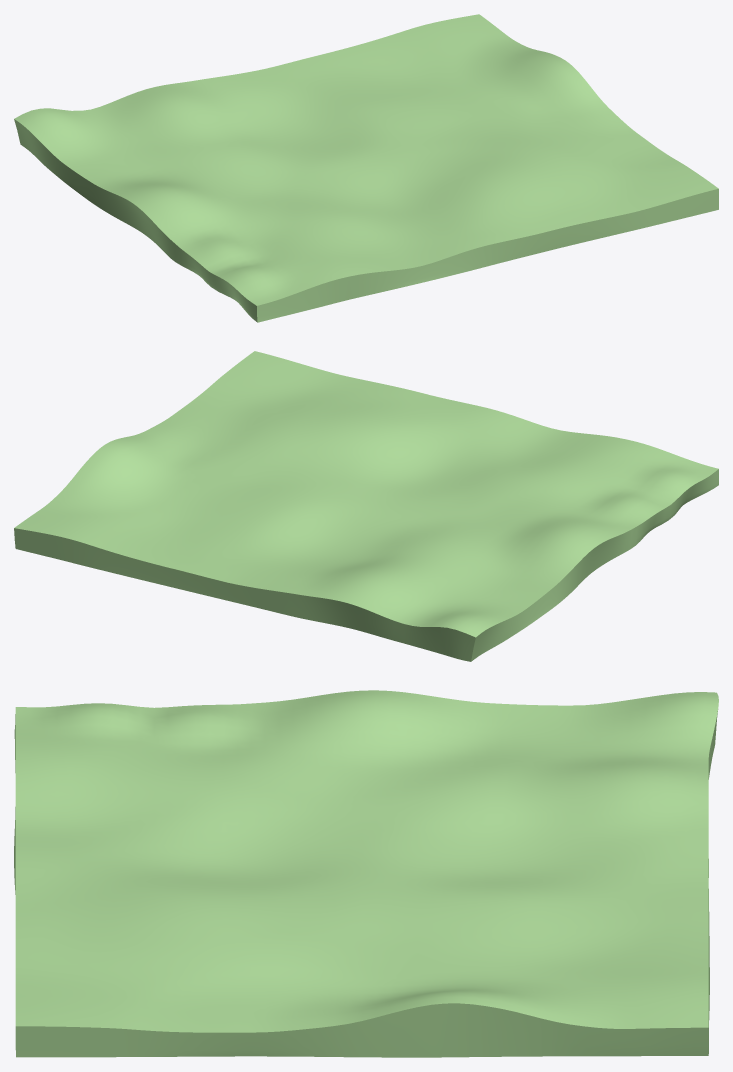
Rendered from ground.fbx.
3 views of the same model, one above another, from view 1: azimuth 30°, elevation 25°; view 2: azimuth 150°, elevation 25°; view 3: azimuth 270°, elevation 25° (orthographic). The views are drawn at different scales.
Parts seen in each view (by area): view 1: pPlane1; view 2: pPlane1; view 3: pPlane1.
Part boxes in pixels (x1=…): pPlane1: x1=14, y1=14, x2=718, y2=322; pPlane1: x1=14, y1=351, x2=718, y2=661; pPlane1: x1=14, y1=690, x2=718, y2=1057.
Size of the model in its own units: 160 by 12.23 by 146.
